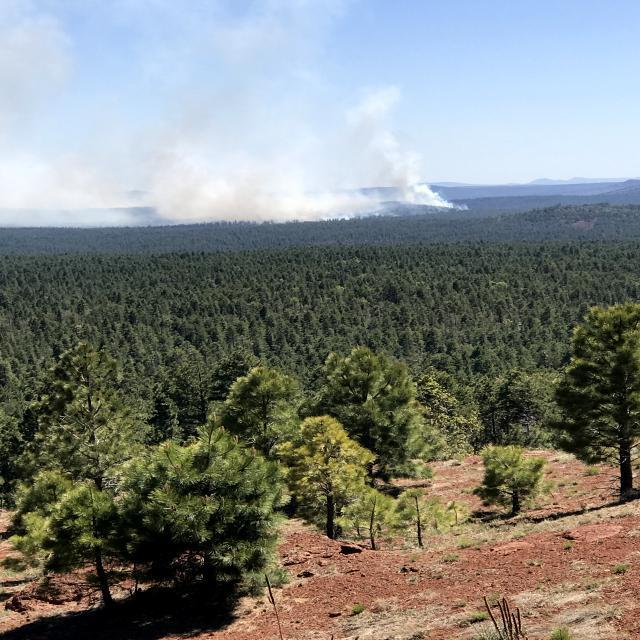Smoke: (331, 94, 453, 214)
